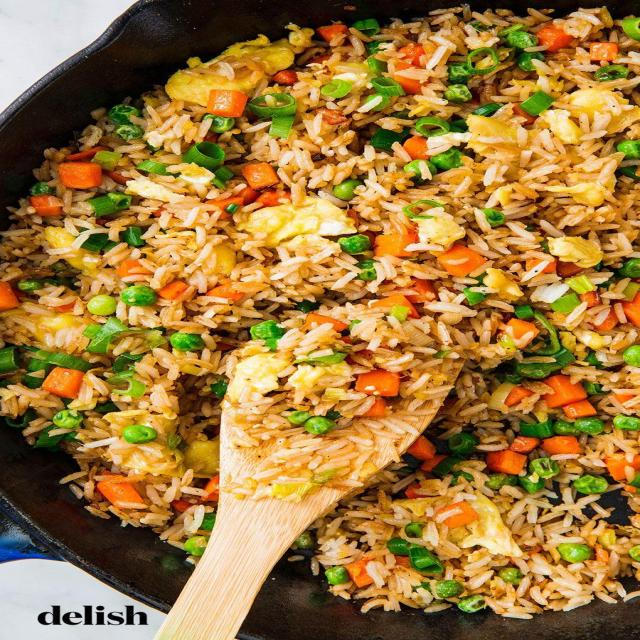Nasi Goreng: (3, 4, 638, 619)
